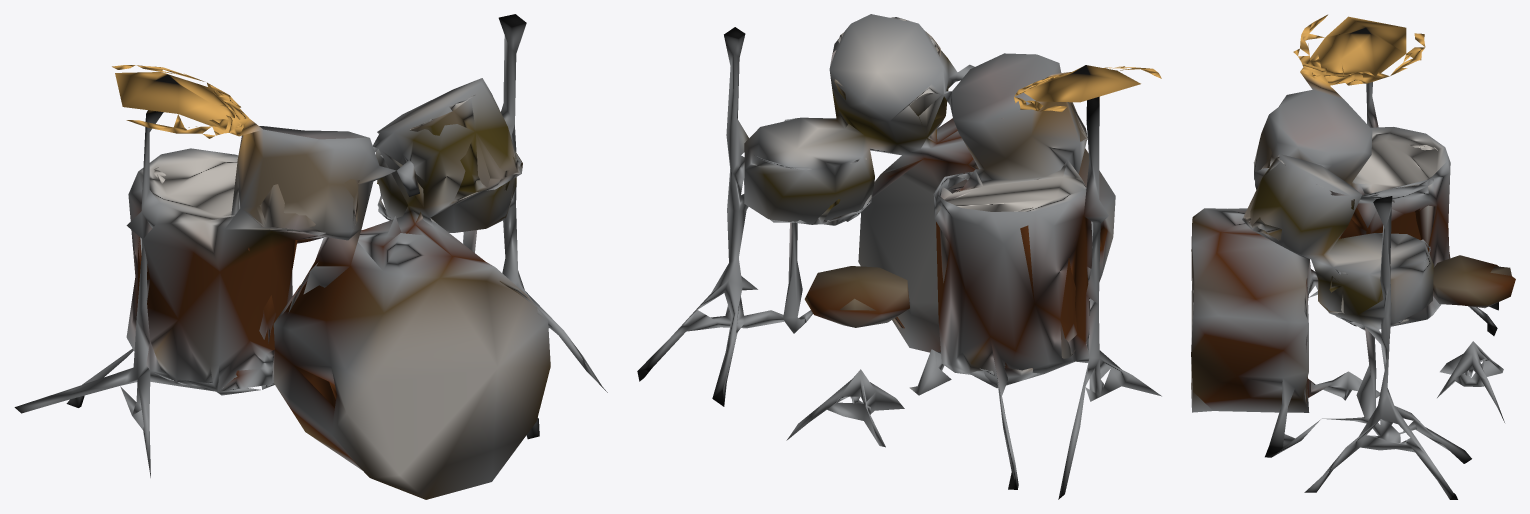
Rendered from gen3d-drummer-lod0.glb.
3 renders of one model, left to right at view 1: azimuth 30°, elevation 25°; view 2: azimuth 150°, elevation 25°; view 3: azimuth 270°, elevation 25°, orthographic. The views are drawn at different scales.
Visible parts, largest first — view 1: part_0; view 2: part_0; view 3: part_0.
Part boxes in pixels (x1,y1,x2,y2): part_0: [14, 14, 607, 499]; part_0: [637, 14, 1161, 499]; part_0: [1191, 14, 1515, 499].
Bounding box in the file's own units: 1.3 × 0.9973 × 0.9491.
